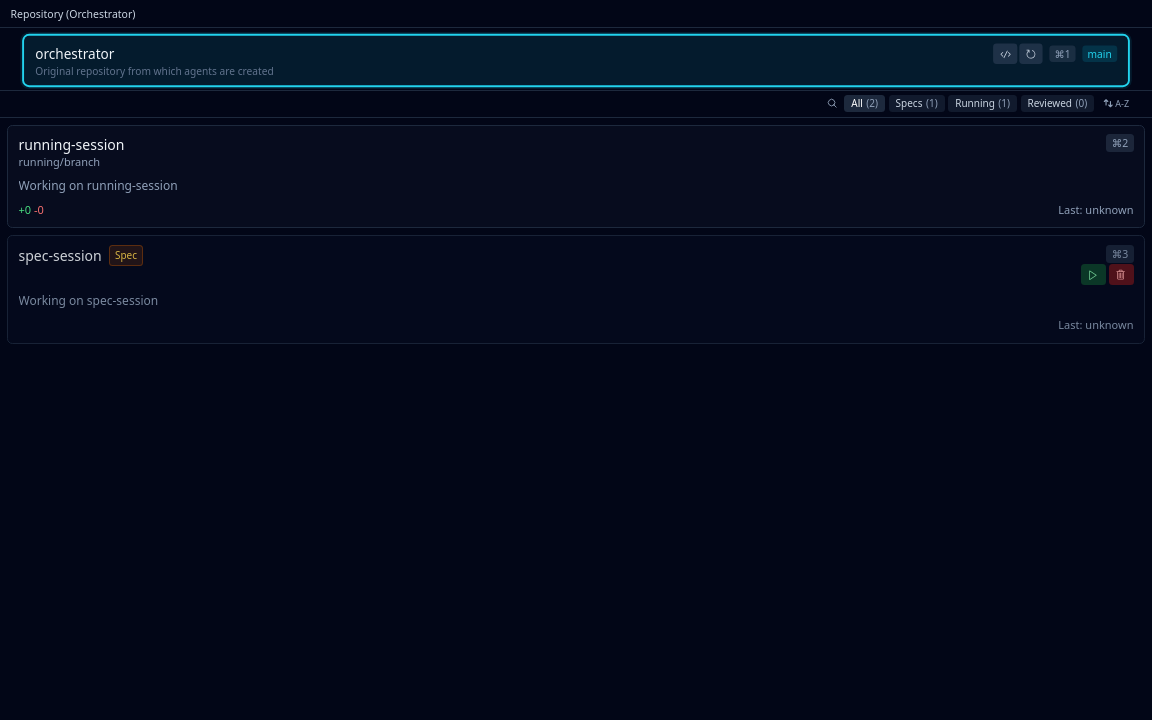
it: Sidebar keyboard navigation basic › prevents marking spec sessions as reviewed
The image size is (1152, 720).
Check: the text "spec-session" is shown, box [18,246,102,265]
Check: the text "running-session" is shown, box [18,135,124,154]
Click the button "spec-session": point(60, 256) [7,235,1145,344]
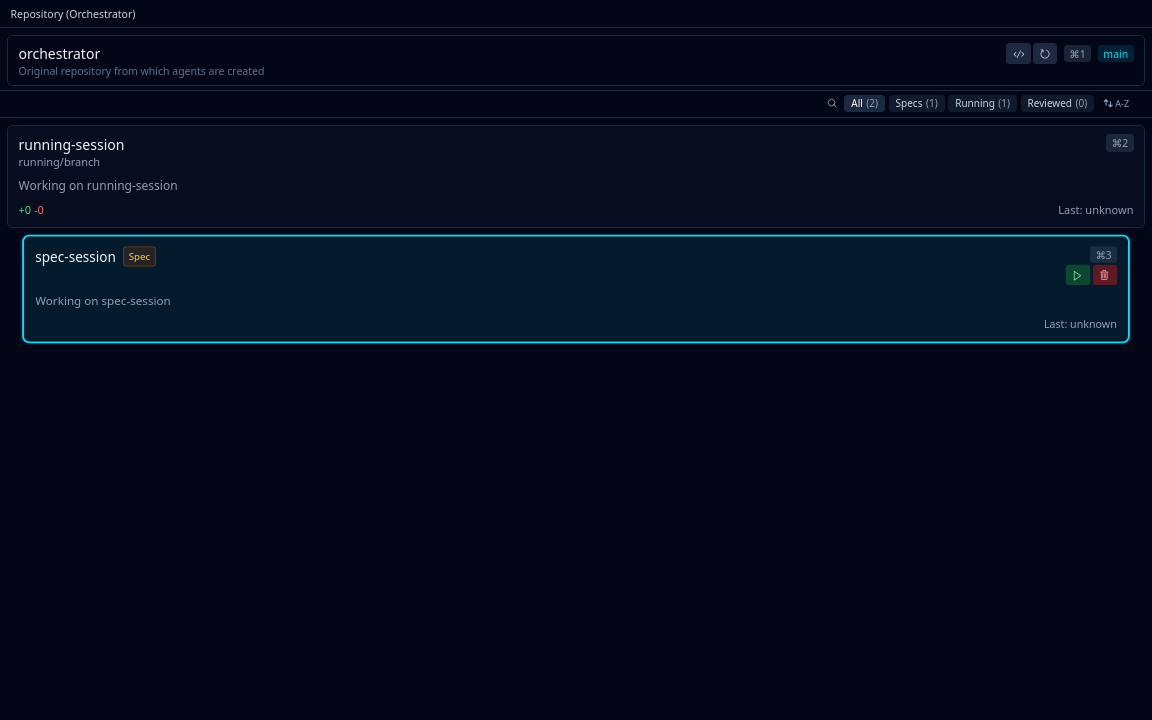
Check: the text "Mark Session as Reviewed" is not shown
Check: the button "spec-session" has class "session-ring", box [24,237,1128,342]
Click the button "running-session": point(71, 145) [7,124,1145,228]
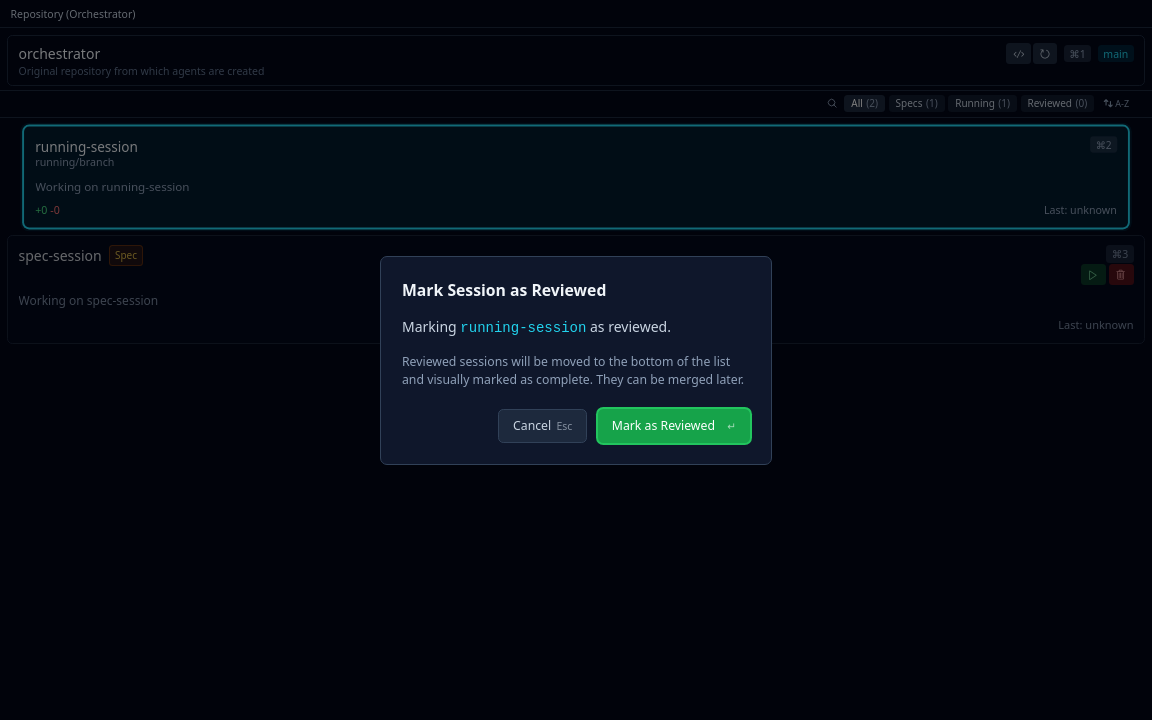
Check: the heading "Mark Session as Reviewed" is shown, box [402,278,606,300]
